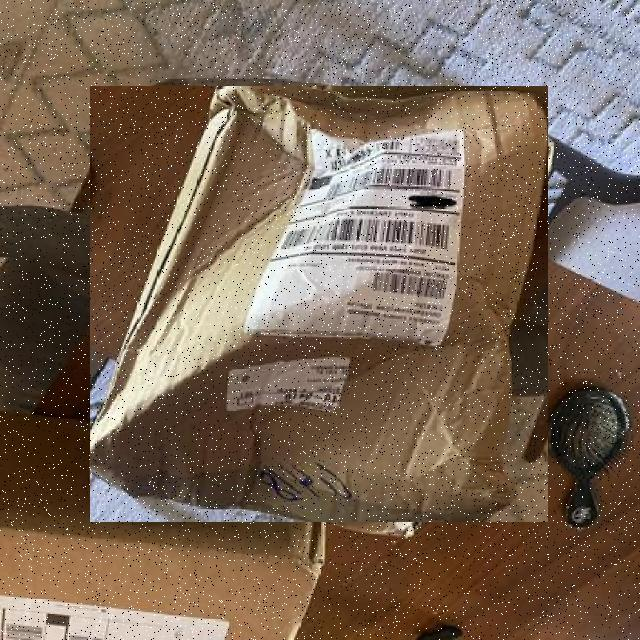defect: (90, 86, 548, 522)
